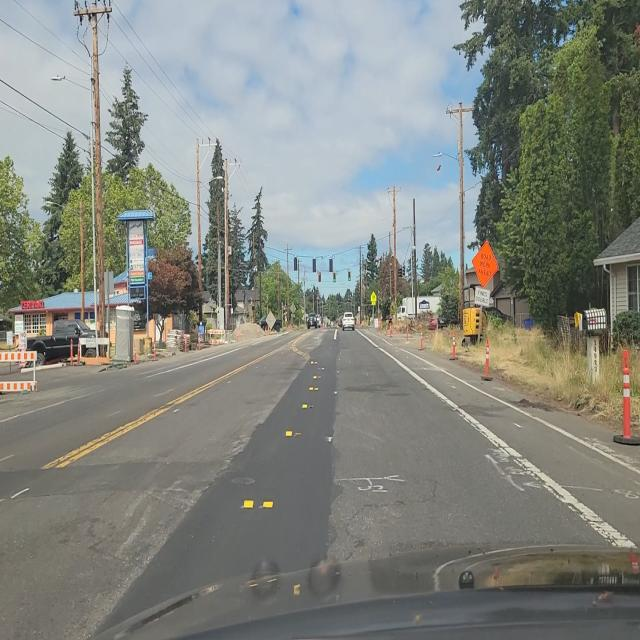car: (23, 315, 110, 370), (256, 316, 278, 332), (428, 315, 448, 331), (342, 311, 356, 332), (306, 312, 319, 329)
crosswalk-sign: (371, 292, 376, 304)
delineator: (622, 351, 632, 440), (481, 338, 493, 381), (449, 329, 457, 361), (75, 336, 82, 368), (68, 336, 74, 370), (419, 326, 424, 351), (184, 335, 189, 352), (406, 321, 410, 341), (153, 341, 157, 361), (389, 319, 393, 336), (235, 325, 239, 342), (384, 319, 388, 335), (263, 324, 268, 335), (198, 335, 201, 350), (257, 328, 261, 338), (379, 319, 382, 332), (214, 338, 218, 346)
